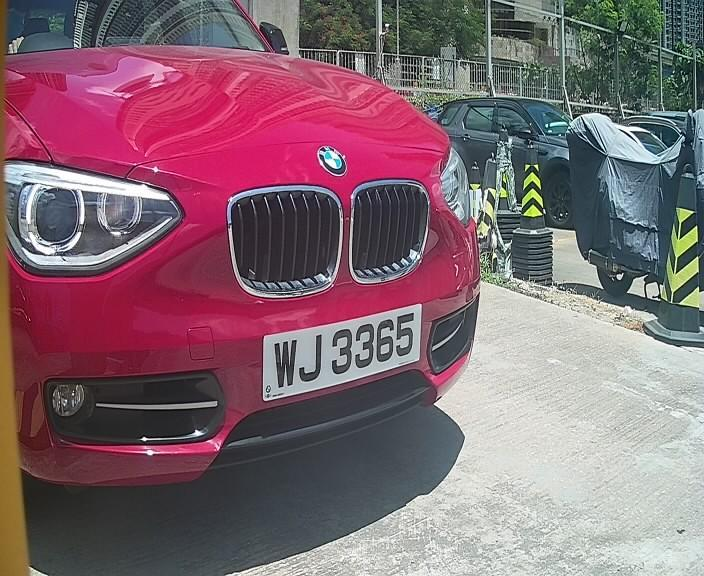License Plate: (252, 299, 422, 402)
